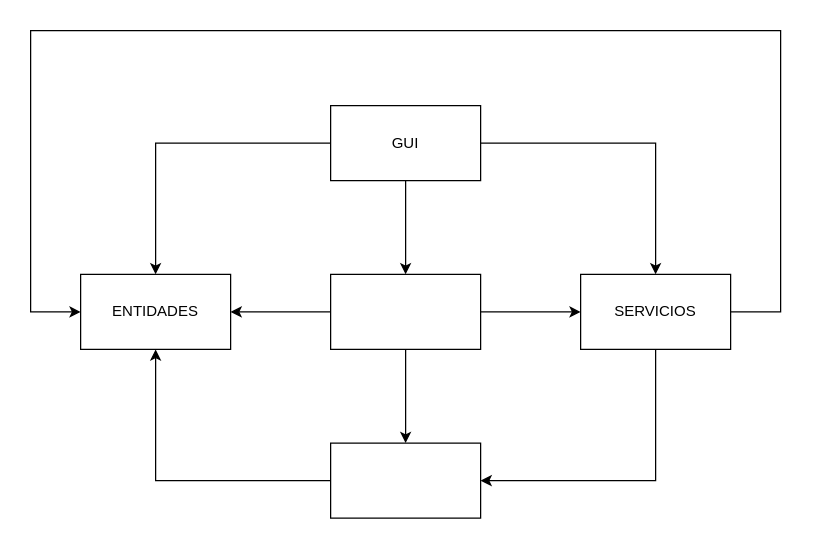
Some shapes in this 813 by 540 pixel diagram are drawn without their labels. The centre of each missing label's shape, as x and y in pixels:
BLL: the point at 405,311
DAL: the point at 405,480
